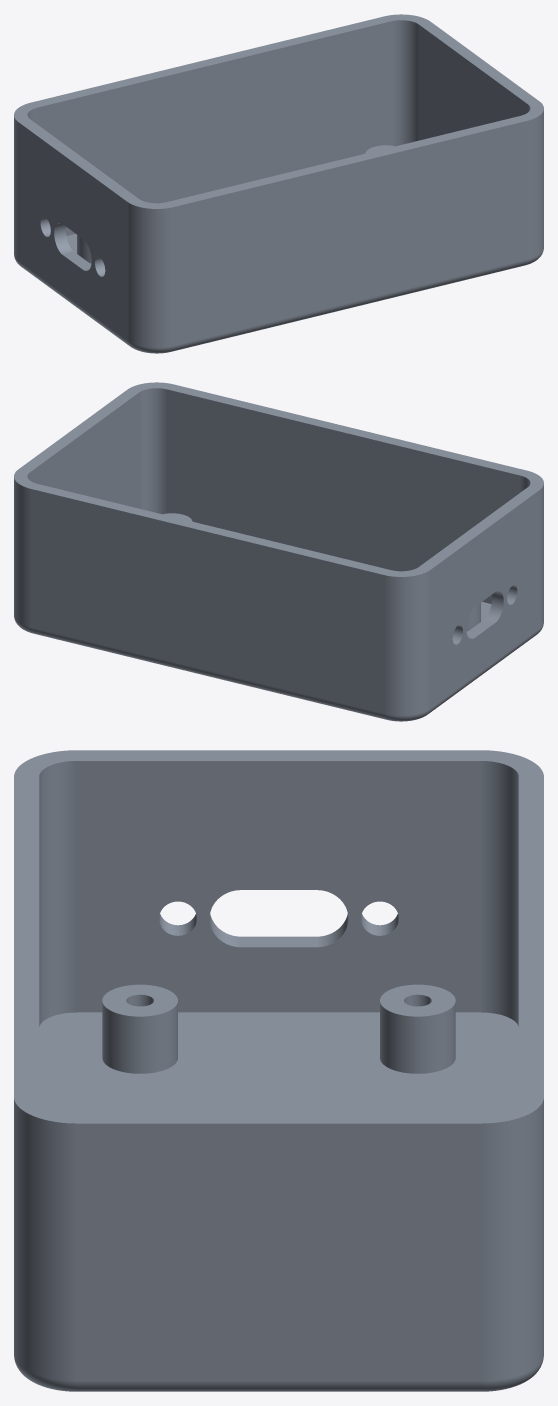
File: step-3.glb
The picture shows the model from 3 angles, top to bottom: view 1: azimuth 30°, elevation 25°; view 2: azimuth 150°, elevation 25°; view 3: azimuth 270°, elevation 25°; orthographic projection. The views are drawn at different scales.
Parts seen in each view (by area): view 1: face_b67d3677e7d694a2f2db, face_45bc5f5550616b1afef1, face_38c325c63db3888e8b3d, face_4668c5ffcd0d728ce001, face_6a217752b0c42edc0aa3, face_8ae94c1f7d0a9e66d1f9, face_56ad88746a78aaf93f11, face_c35c8bf9dcc2b3c32720, face_bc76a13d16a970b63849, face_fd40d69dbfc97b0ae30c, face_f6ea822d1165a68862af; view 2: face_2f4825a16657542945f8, face_0af2ead07a9b0099b1ee, face_38c325c63db3888e8b3d, face_4668c5ffcd0d728ce001, face_6a217752b0c42edc0aa3, face_fd40d69dbfc97b0ae30c, face_ae601b474693ad150bbf, face_b7d12cd943e777221633, face_0a83f1b7115055c8b5fd, face_8ae94c1f7d0a9e66d1f9, face_f6ea822d1165a68862af; view 3: face_f9e02b68c5aadb2a0dd7, face_b0a05cc6bf7ba72e6d06, face_1b3d598492a9639bbd0c, face_4668c5ffcd0d728ce001, face_c35c8bf9dcc2b3c32720, face_b7d12cd943e777221633, face_fabfacf65a1967ea229c, face_25034a257e1fccea2564, face_8ff70ed42a7977d22eb0, face_4c828be77a25846b4e86, face_2224a598ba7899796422, face_5067d3e25ac6399ec6f4 (+2 smaller).
Part boxes in pixels (x1,y1,x2,y2): face_b67d3677e7d694a2f2db: [173, 121, 526, 345]; face_45bc5f5550616b1afef1: [37, 21, 390, 235]; face_38c325c63db3888e8b3d: [18, 122, 127, 339]; face_4668c5ffcd0d728ce001: [14, 14, 543, 208]; face_6a217752b0c42edc0aa3: [419, 25, 527, 140]; face_8ae94c1f7d0a9e66d1f9: [127, 202, 173, 347]; face_56ad88746a78aaf93f11: [391, 20, 418, 146]; face_c35c8bf9dcc2b3c32720: [527, 110, 543, 259]; face_bc76a13d16a970b63849: [172, 259, 526, 351]; face_fd40d69dbfc97b0ae30c: [14, 116, 18, 260]; face_f6ea822d1165a68862af: [18, 261, 128, 345]; face_2f4825a16657542945f8: [31, 489, 384, 713]; face_0af2ead07a9b0099b1ee: [167, 389, 520, 603]; face_38c325c63db3888e8b3d: [430, 490, 539, 707]; face_4668c5ffcd0d728ce001: [14, 382, 543, 576]; face_6a217752b0c42edc0aa3: [30, 393, 138, 508]; face_fd40d69dbfc97b0ae30c: [384, 570, 430, 715]; face_ae601b474693ad150bbf: [139, 388, 166, 514]; face_b7d12cd943e777221633: [14, 478, 30, 627]; face_0a83f1b7115055c8b5fd: [31, 627, 385, 719]; face_8ae94c1f7d0a9e66d1f9: [539, 484, 543, 628]; face_f6ea822d1165a68862af: [429, 629, 539, 713]; face_f9e02b68c5aadb2a0dd7: [77, 1123, 480, 1380]; face_b0a05cc6bf7ba72e6d06: [77, 761, 480, 1012]; face_1b3d598492a9639bbd0c: [39, 1012, 518, 1112]; face_4668c5ffcd0d728ce001: [14, 750, 543, 1123]; face_c35c8bf9dcc2b3c32720: [14, 1099, 76, 1380]; face_b7d12cd943e777221633: [481, 1099, 543, 1380]; face_fabfacf65a1967ea229c: [39, 761, 76, 1026]; face_25034a257e1fccea2564: [481, 761, 518, 1026]; face_8ff70ed42a7977d22eb0: [77, 1381, 480, 1391]; face_4c828be77a25846b4e86: [102, 1002, 177, 1073]; face_2224a598ba7899796422: [380, 1002, 455, 1073]; face_5067d3e25ac6399ec6f4: [102, 984, 177, 1016].
Bounding box in the file's own units: 0.07 × 0.024 × 0.042.
